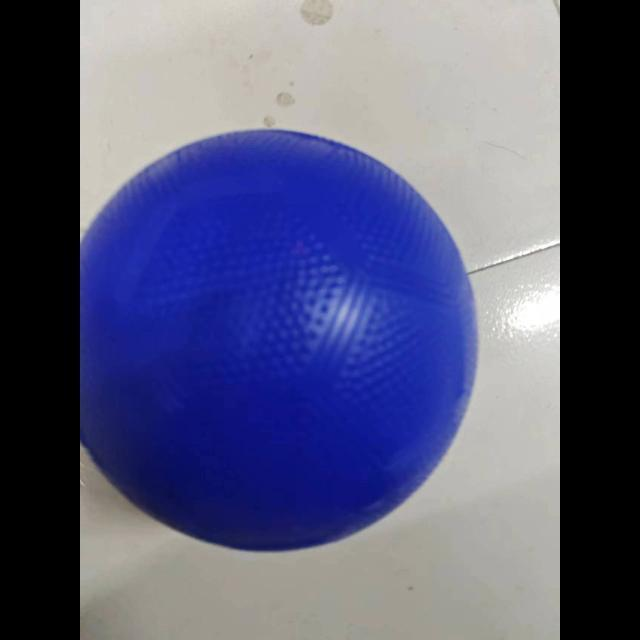B: (83, 123, 484, 557)
